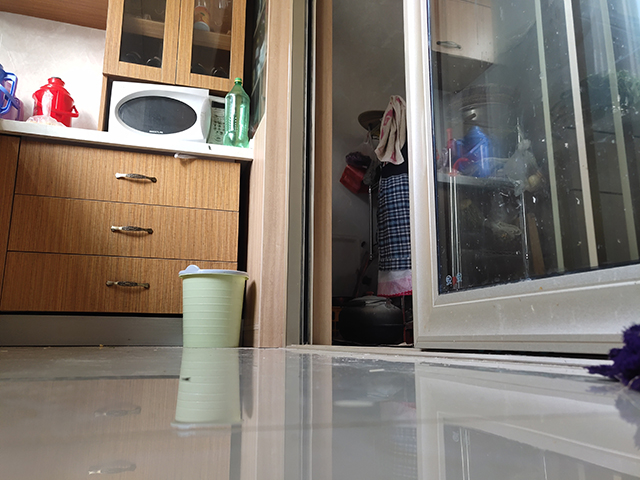cabinet: (1, 116, 255, 347)
trashcan: (177, 263, 251, 349)
